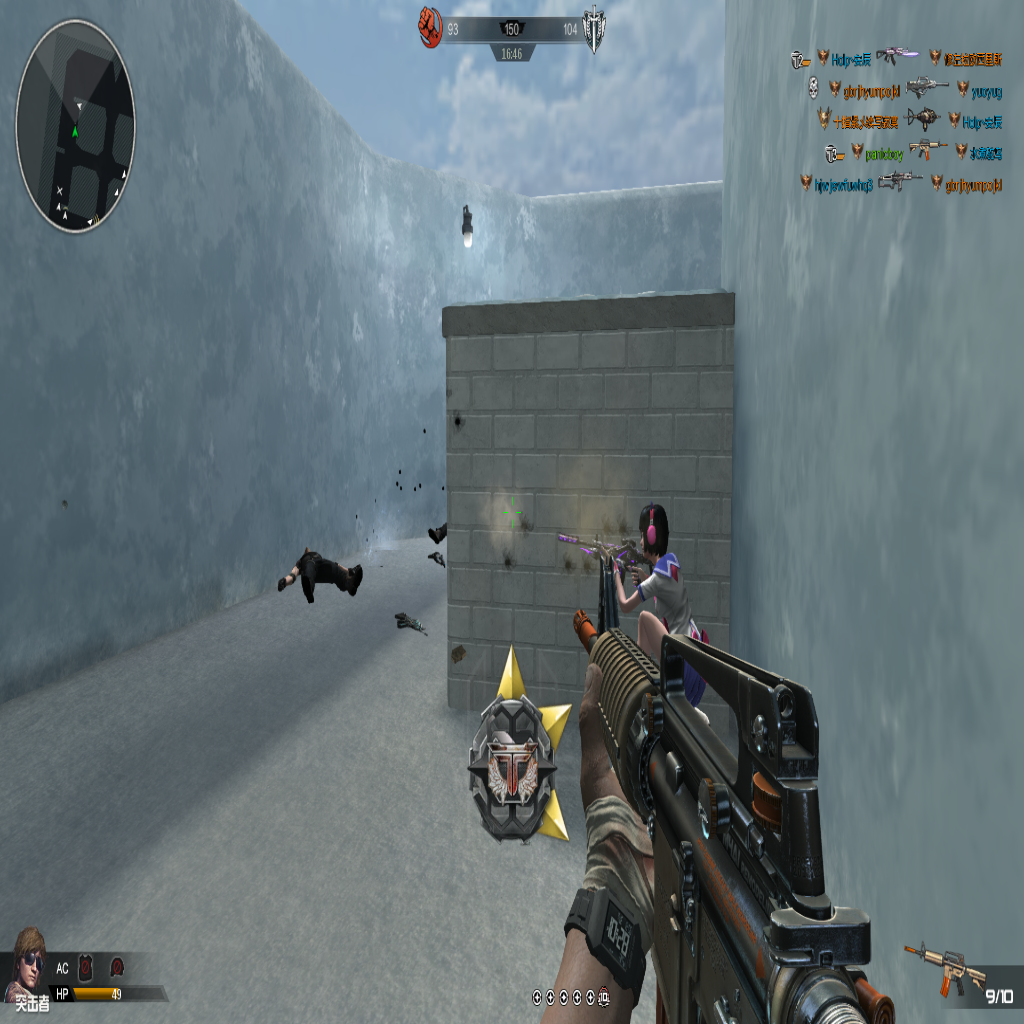tt: (602, 499, 698, 667)
